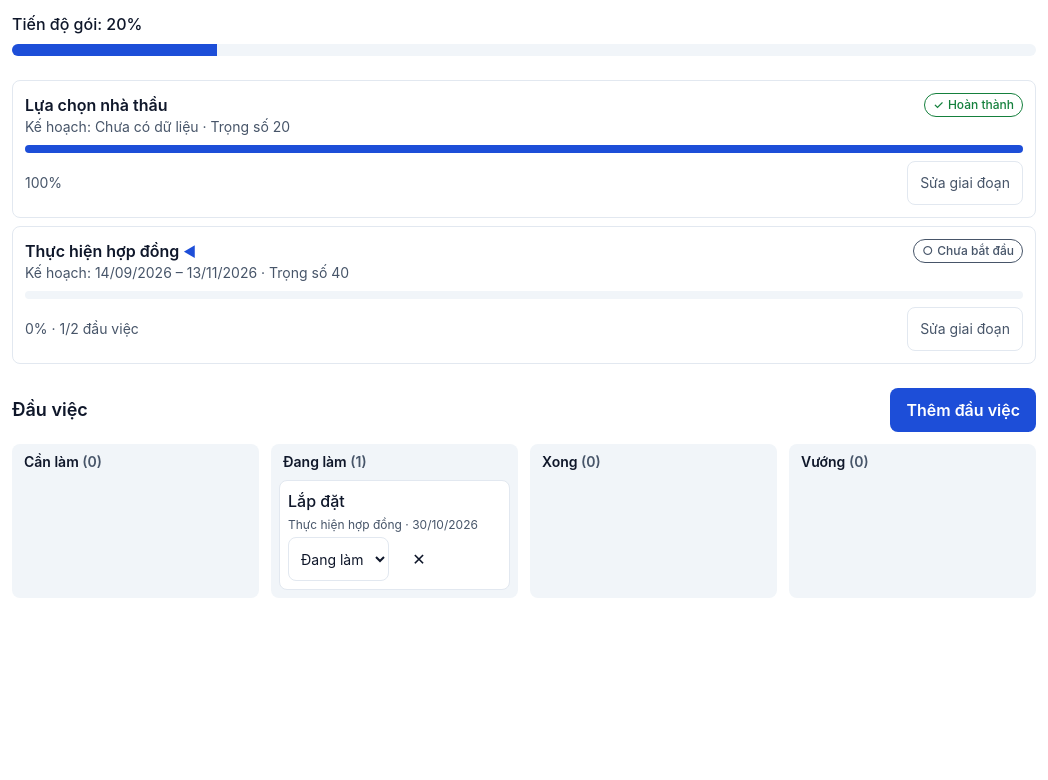
Scenario: progress screens › "later" dismisses the suggestion without touching the stage
The image size is (1048, 780).
Select "Xong" in the dropdown named "Trạng thái: Lắp đặt" at point(338, 559), box [288,537,389,581]
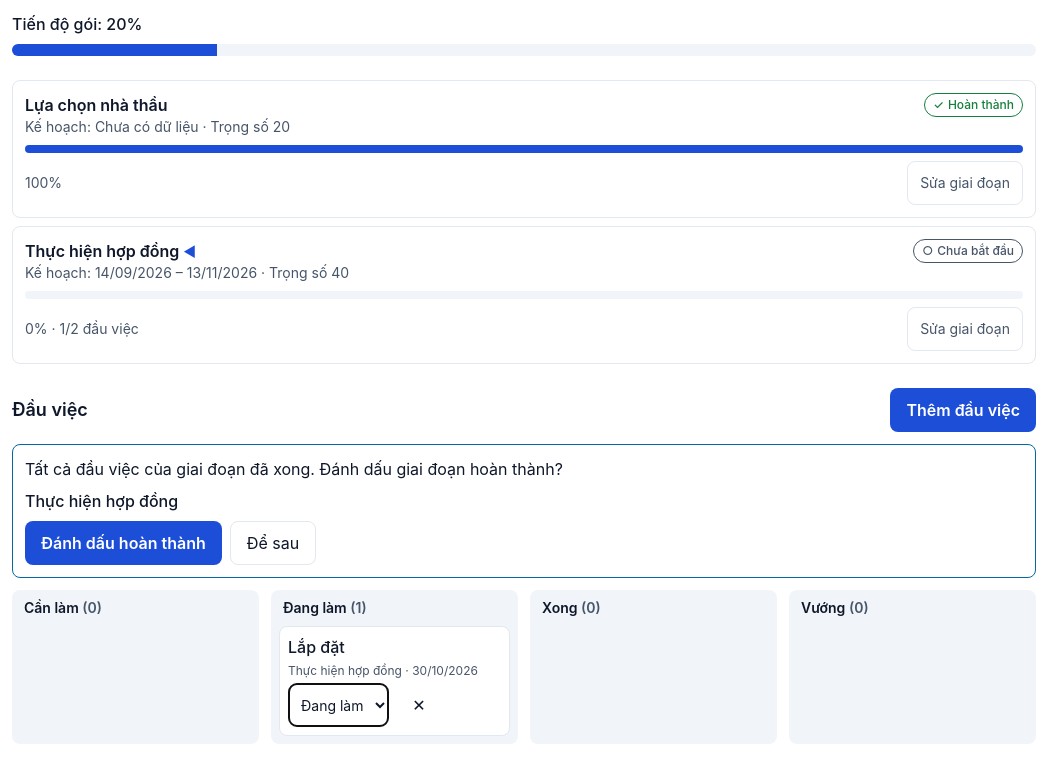
Click the button "Để sau".
click(273, 543)  # box [230,521,316,565]
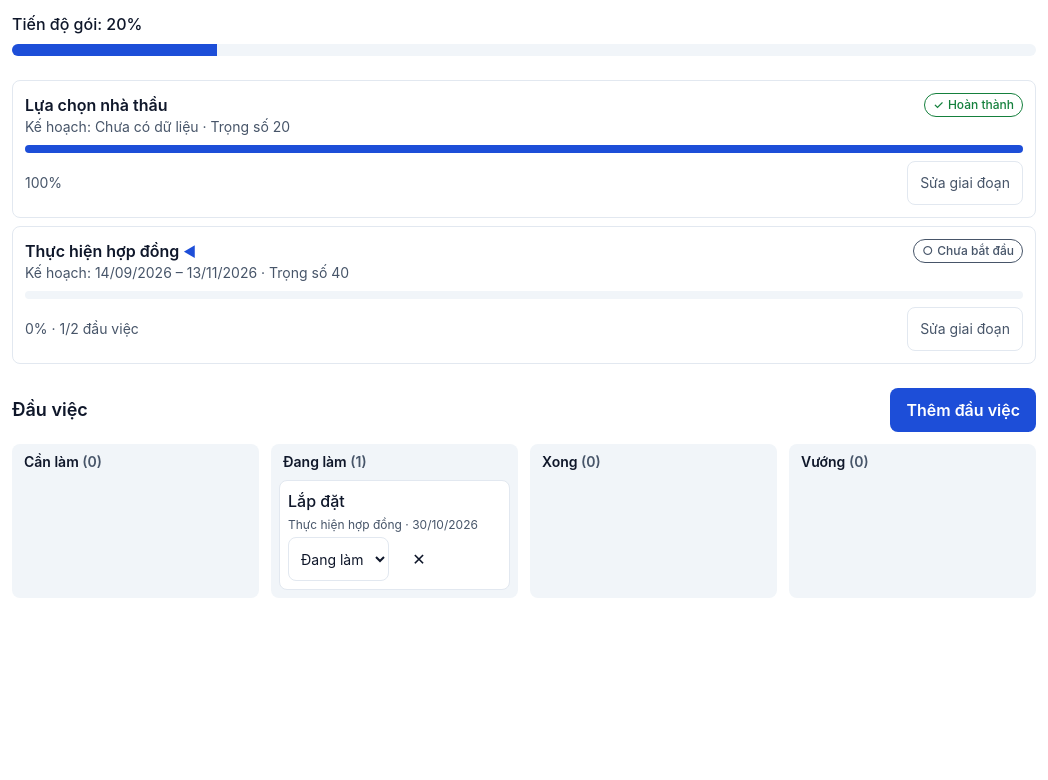
Now the message "Tất cả đầu việc của giai đoạn đã xong. Đánh dấu giai đoạn hoàn thành? Thực hiện" is gone
